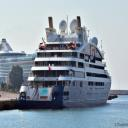cruises: (19, 15, 113, 112)
